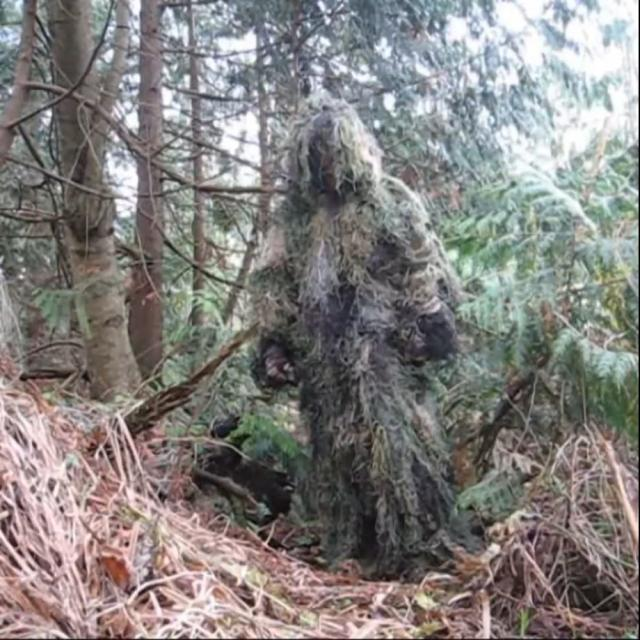human: (251, 96, 463, 561)
